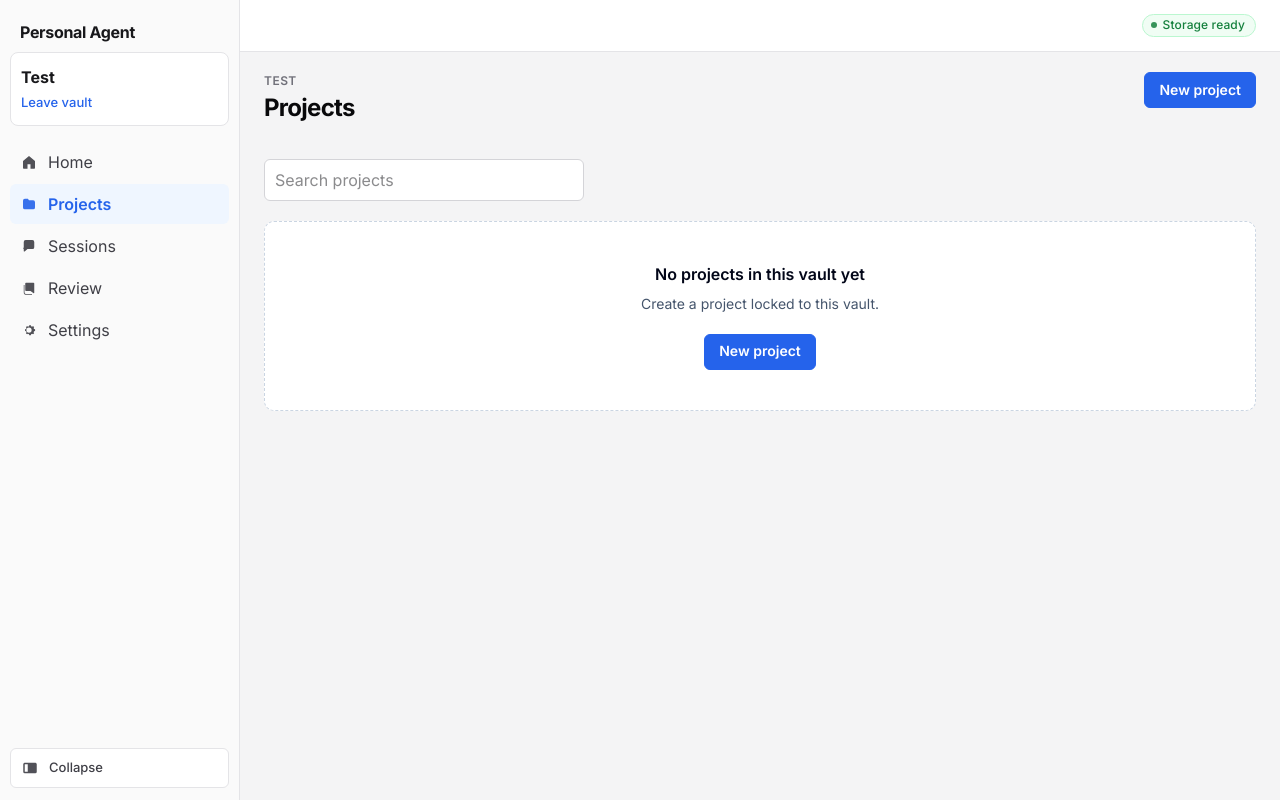
Scenario: vault context routes › shows the real vault name on vault project create (not generic Vault)
The width and height of the screenshot is (1280, 800).
expect the heading "Projects" is shown: met, box [264,94,355,123]
Click the 1st button "New project": {"x": 1200, "y": 90} [1144,72,1256,108]
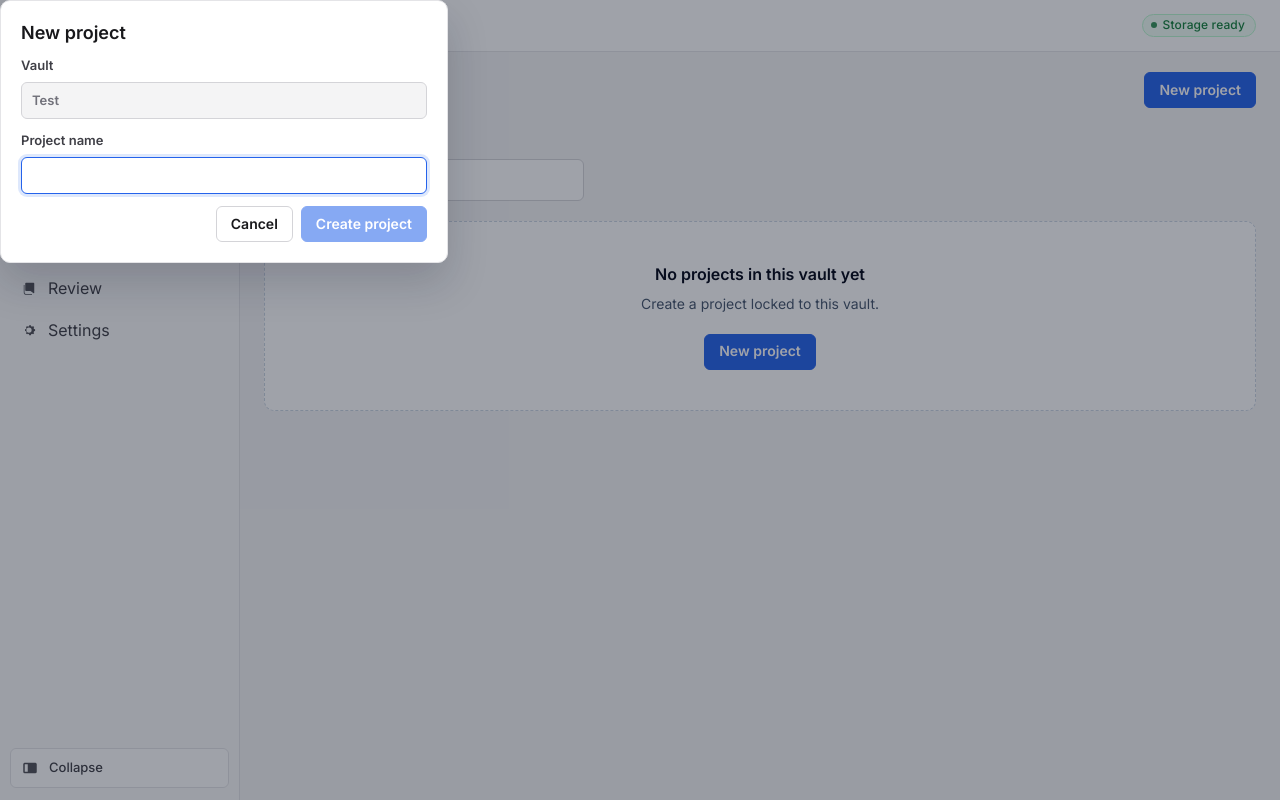
expect the field labelled "Vault" holds "Test": met, box [21,82,427,119]
